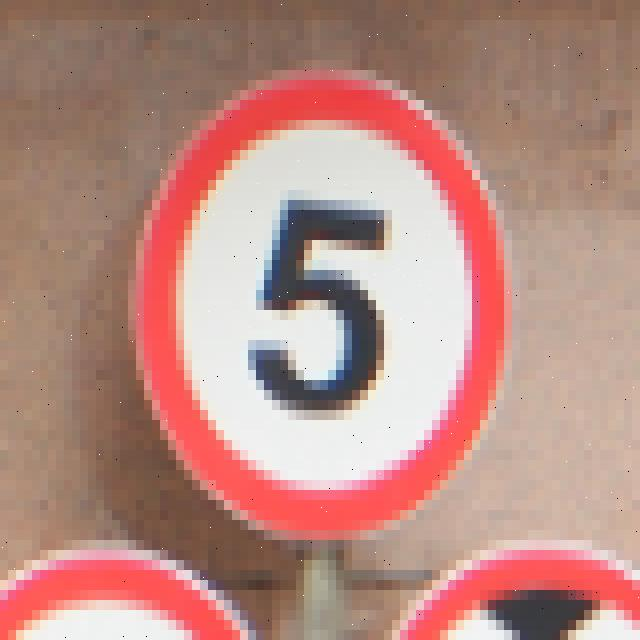speed limit 10: (131, 72, 511, 545)
